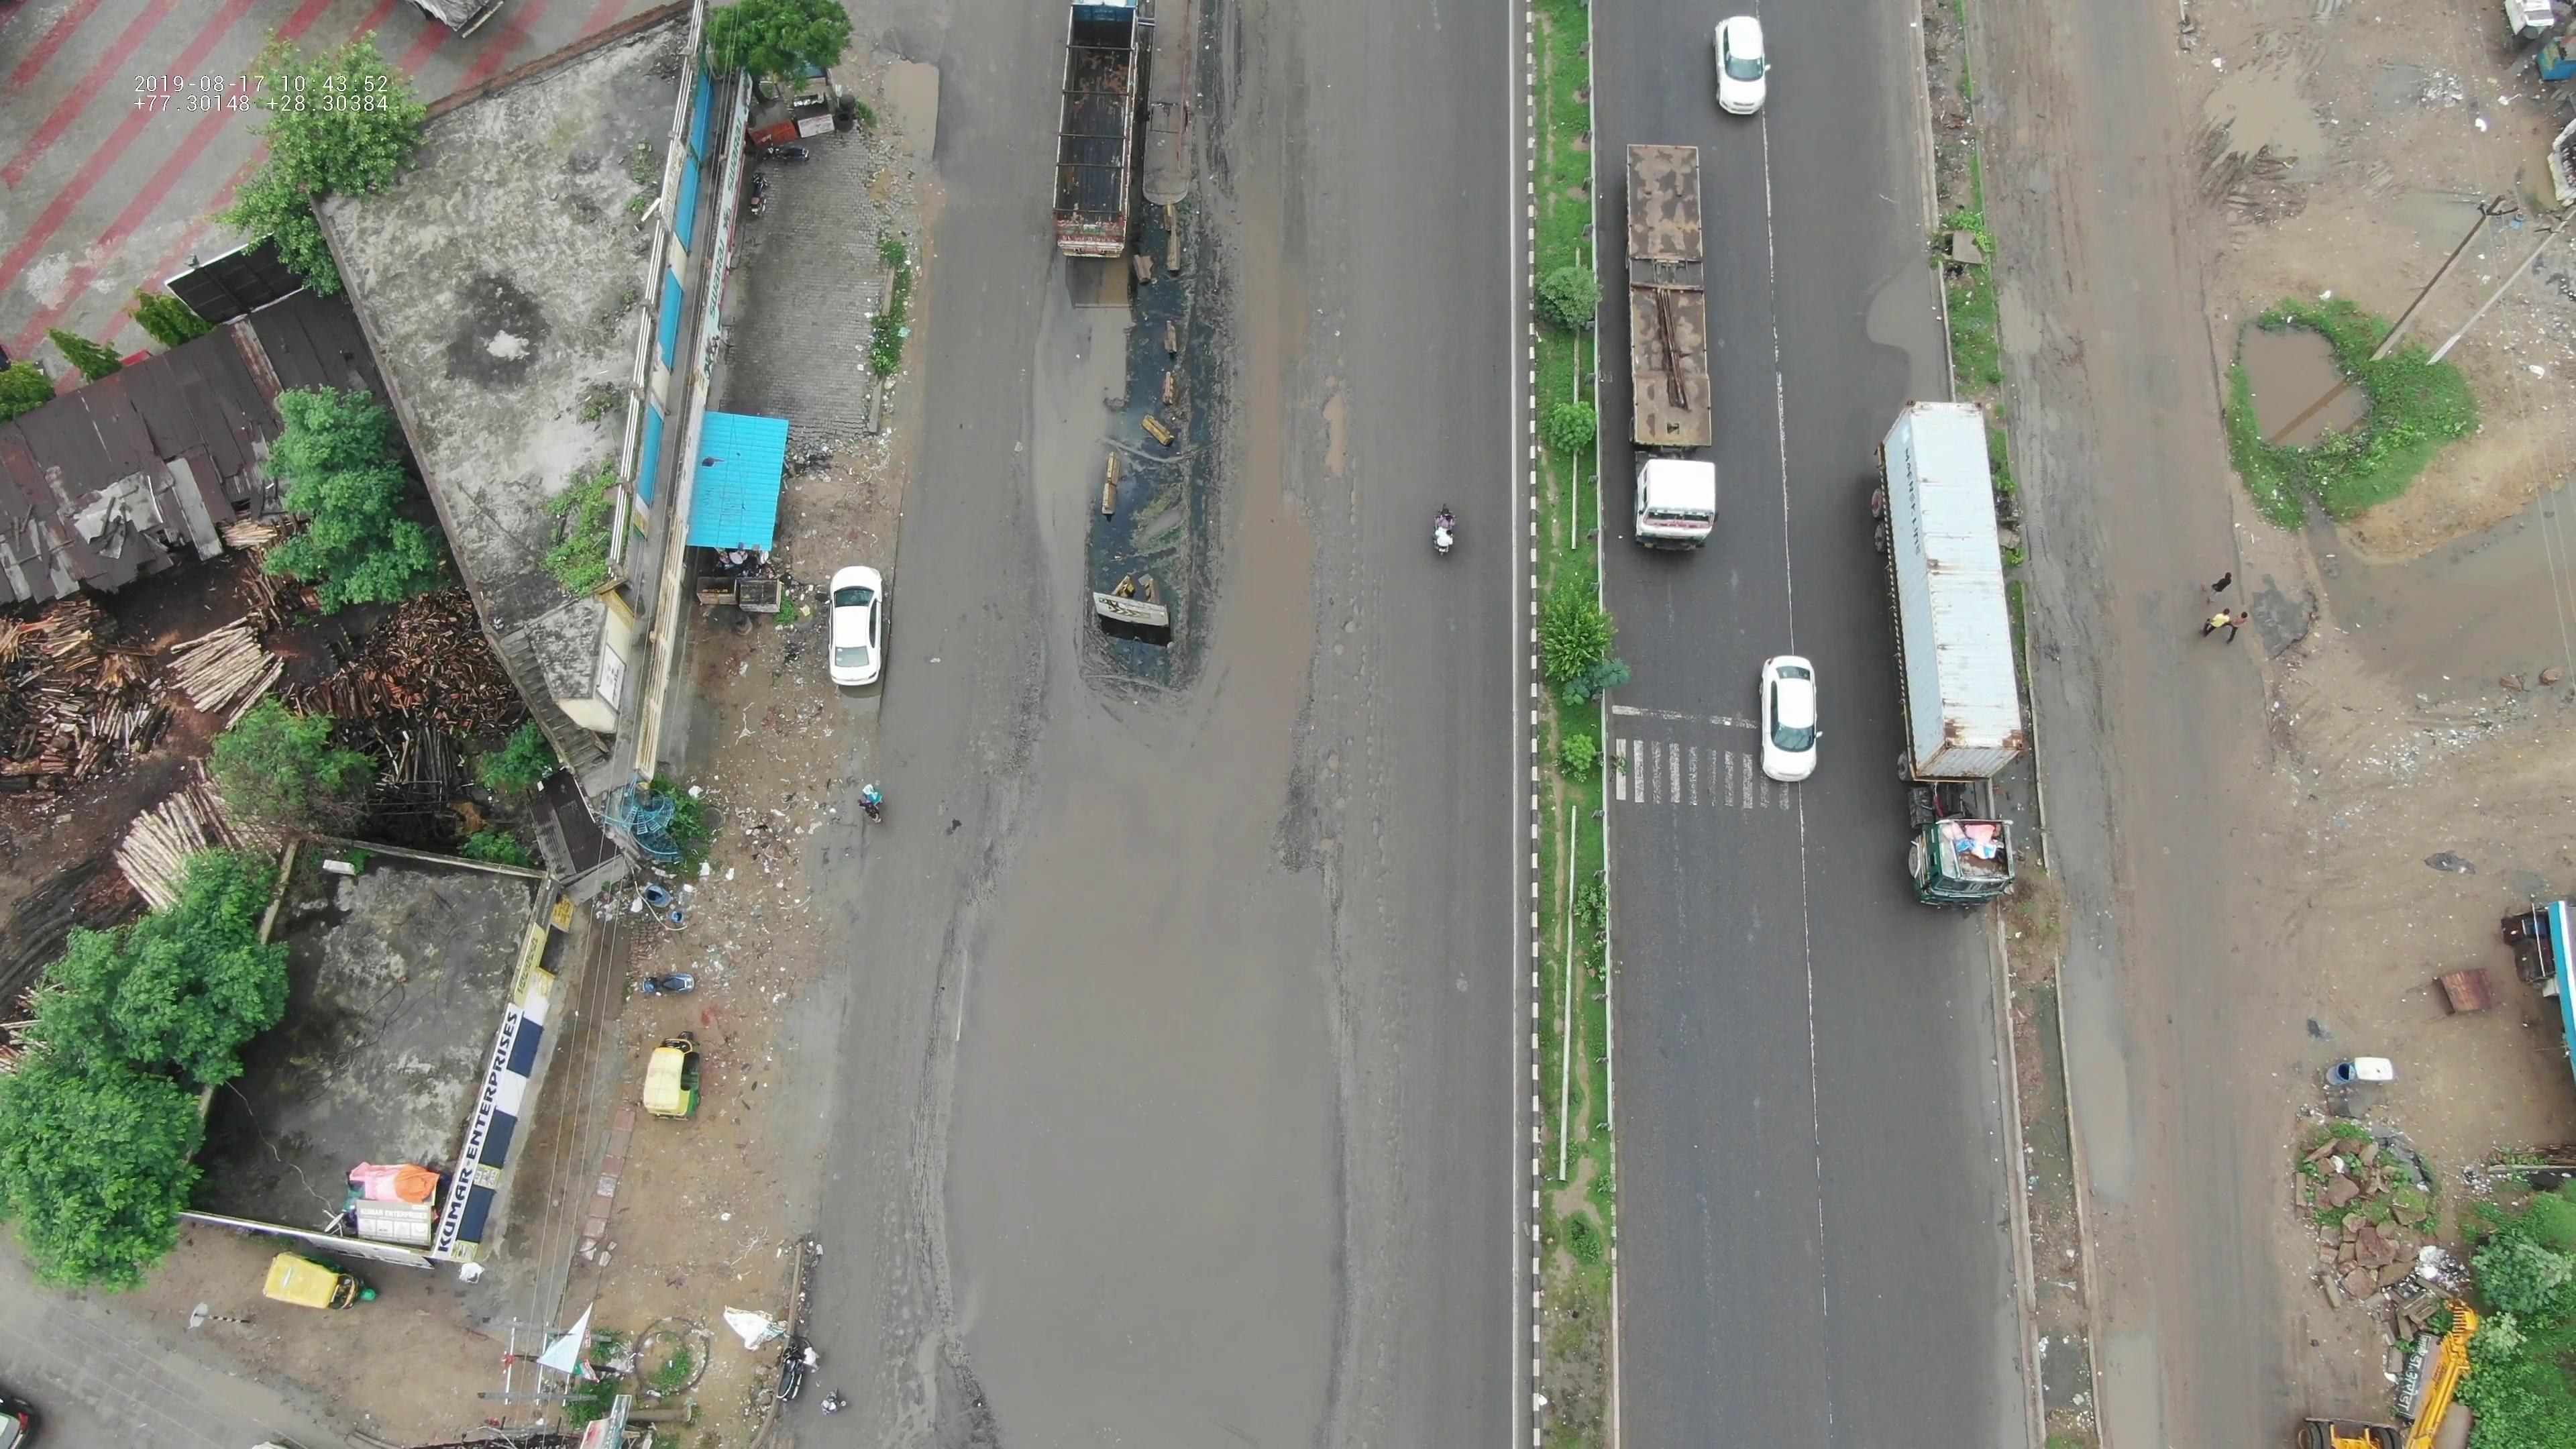Waterlogging: (1007, 796, 1322, 1426), (2220, 257, 2401, 476)
